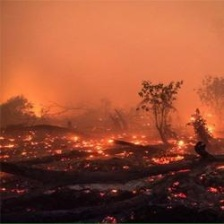fire: (5, 120, 224, 181)
